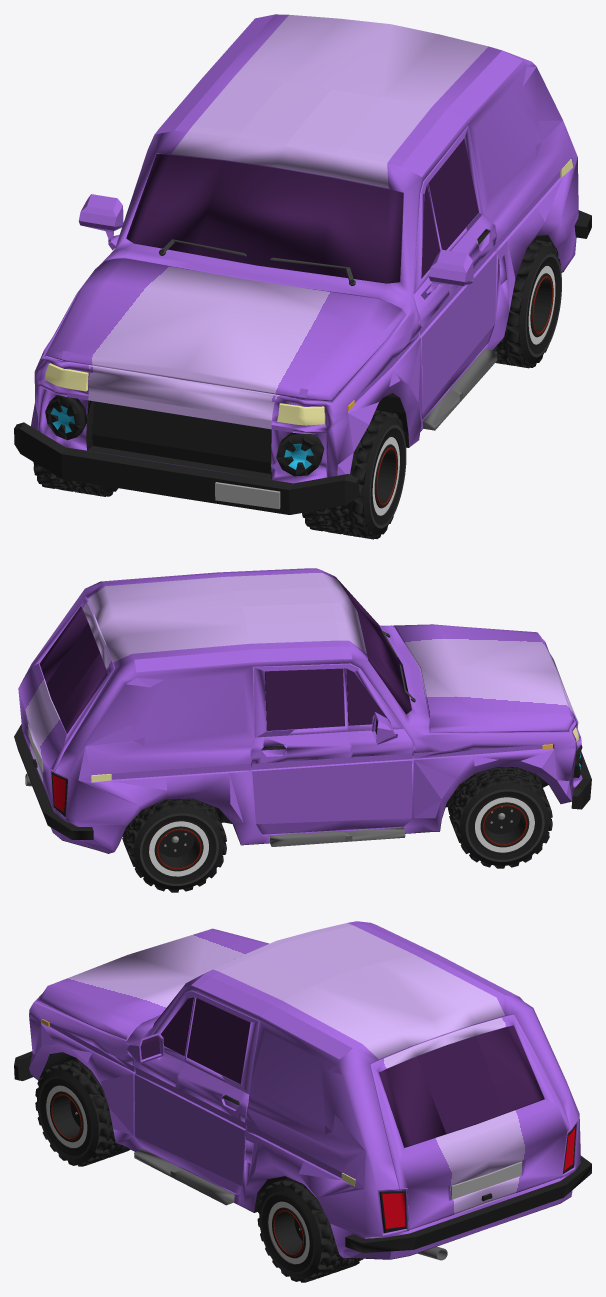
File: ToyObject_089.fbx
3 renders of one model, top to bottom at view 1: azimuth 30°, elevation 25°; view 2: azimuth 150°, elevation 25°; view 3: azimuth 270°, elevation 25°, orthographic. The views are drawn at different scales.
Parts seen in each view (by area): view 1: object-1.039; view 2: object-1.039; view 3: object-1.039.
Boxes of the visible parts, x1,y1,x2,y2 form: object-1.039: (14,14,591,539); object-1.039: (14,568,591,892); object-1.039: (14,921,591,1282).
Size of the model in its own units: 0.1728 by 0.0742 by 0.163.
Materials: 4 (1 with a texture image).
